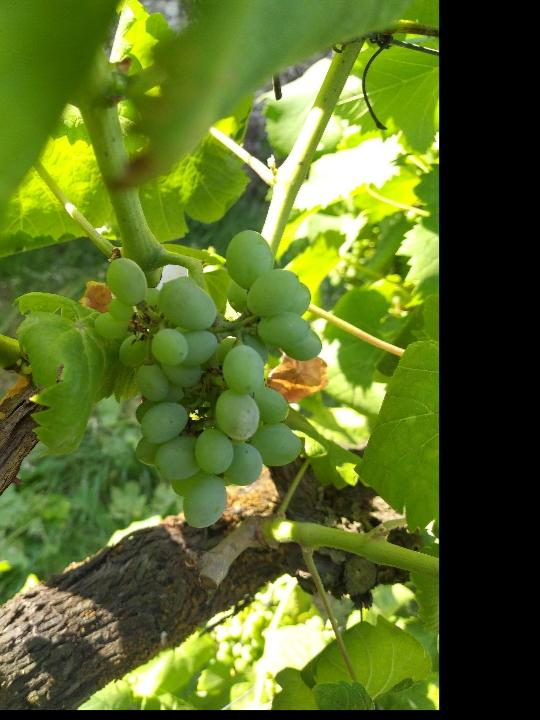grape: (87, 227, 326, 530)
